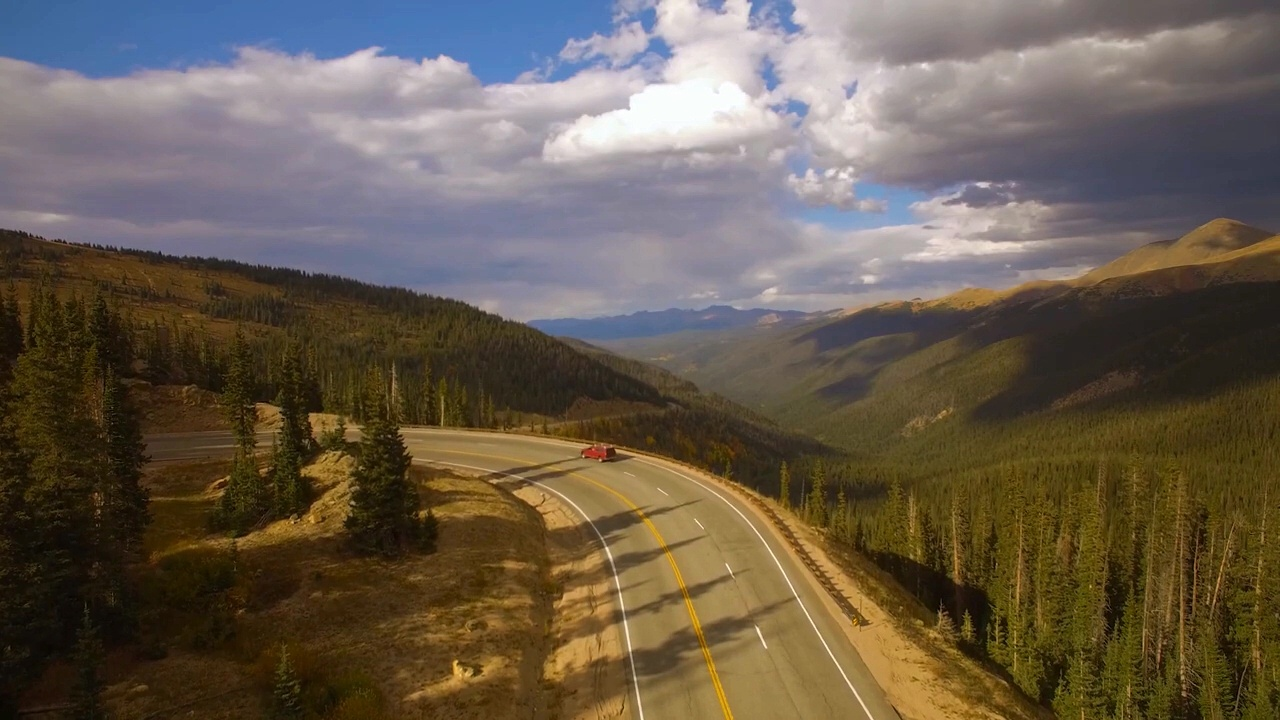araba: (580, 443, 620, 463)
